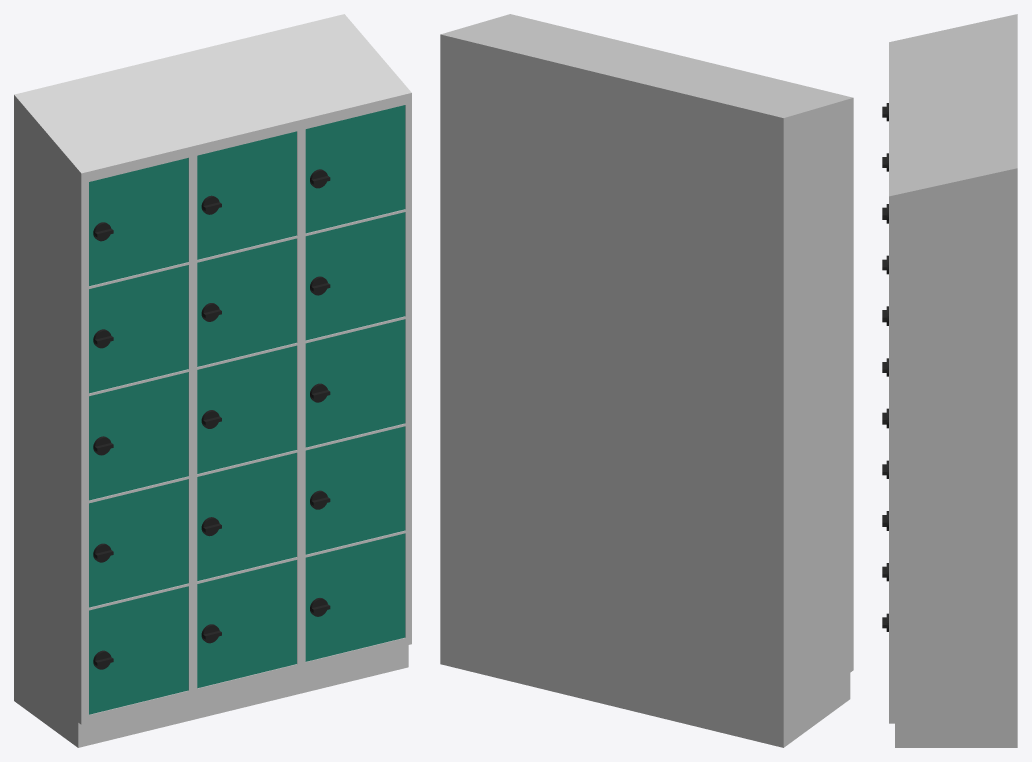
The model's file is Spinde.glb.
3 renders of one model, left to right at view 1: azimuth 30°, elevation 25°; view 2: azimuth 150°, elevation 25°; view 3: azimuth 270°, elevation 25°, orthographic. The views are drawn at different scales.
Visible parts, largest first — view 1: Schrank, Cube.020, Cube.014, Cube.011, Cube.008, Cube.017, Cube.013, Cube.019, Cube.009, Cube.015, Cube.006, Cube.007 (+4 smaller); view 2: Schrank; view 3: Schrank.
Part boxes in pixels (left/top/right/bottom): Schrank: left=14, top=14, right=411, bottom=747; Cube.020: left=305, top=533, right=405, bottom=661; Cube.014: left=305, top=319, right=405, bottom=447; Cube.011: left=305, top=212, right=405, bottom=340; Cube.008: left=305, top=105, right=405, bottom=233; Cube.017: left=305, top=426, right=405, bottom=554; Cube.013: left=89, top=372, right=188, bottom=500; Cube.019: left=89, top=586, right=188, bottom=714; Cube.009: left=197, top=238, right=296, bottom=366; Cube.015: left=197, top=452, right=296, bottom=580; Cube.006: left=89, top=158, right=188, bottom=286; Cube.007: left=197, top=131, right=296, bottom=259; Schrank: left=440, top=14, right=853, bottom=747; Schrank: left=889, top=14, right=1017, bottom=747.
Size of the model in its own units: 0.8439 by 1.48 by 0.3128.
